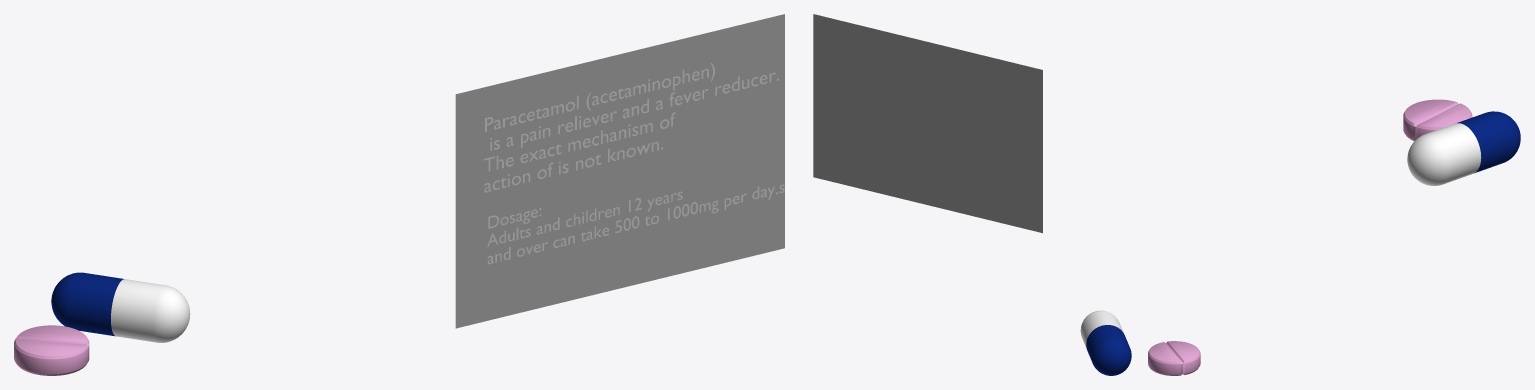
The model's file is pills.obj.
3 renders of one model, left to right at view 1: azimuth 30°, elevation 25°; view 2: azimuth 150°, elevation 25°; view 3: azimuth 270°, elevation 25°, orthographic. The views are drawn at different scales.
Parts seen in each view (by area): view 1: Plane_Plane.001, Sphere.045_Sphere.047, Text_Text.001, Cylinder072, Text.001_Text.002; view 2: Plane_Plane.001, Sphere.045_Sphere.047, Cylinder072; view 3: Sphere.045_Sphere.047, Cylinder072.
Part boxes in pixels (<box>): Plane_Plane.001: <box>455,14,784,328</box>; Sphere.045_Sphere.047: <box>51,272,190,342</box>; Text_Text.001: <box>484,63,778,192</box>; Cylinder072: <box>14,325,89,375</box>; Text.001_Text.002: <box>487,184,784,264</box>; Plane_Plane.001: <box>813,14,1042,233</box>; Sphere.045_Sphere.047: <box>1080,310,1131,375</box>; Cylinder072: <box>1148,341,1200,375</box>; Sphere.045_Sphere.047: <box>1407,111,1520,185</box>; Cylinder072: <box>1403,99,1472,141</box>.
Size of the model in its own units: 16.36 by 6.59 by 6.85.
